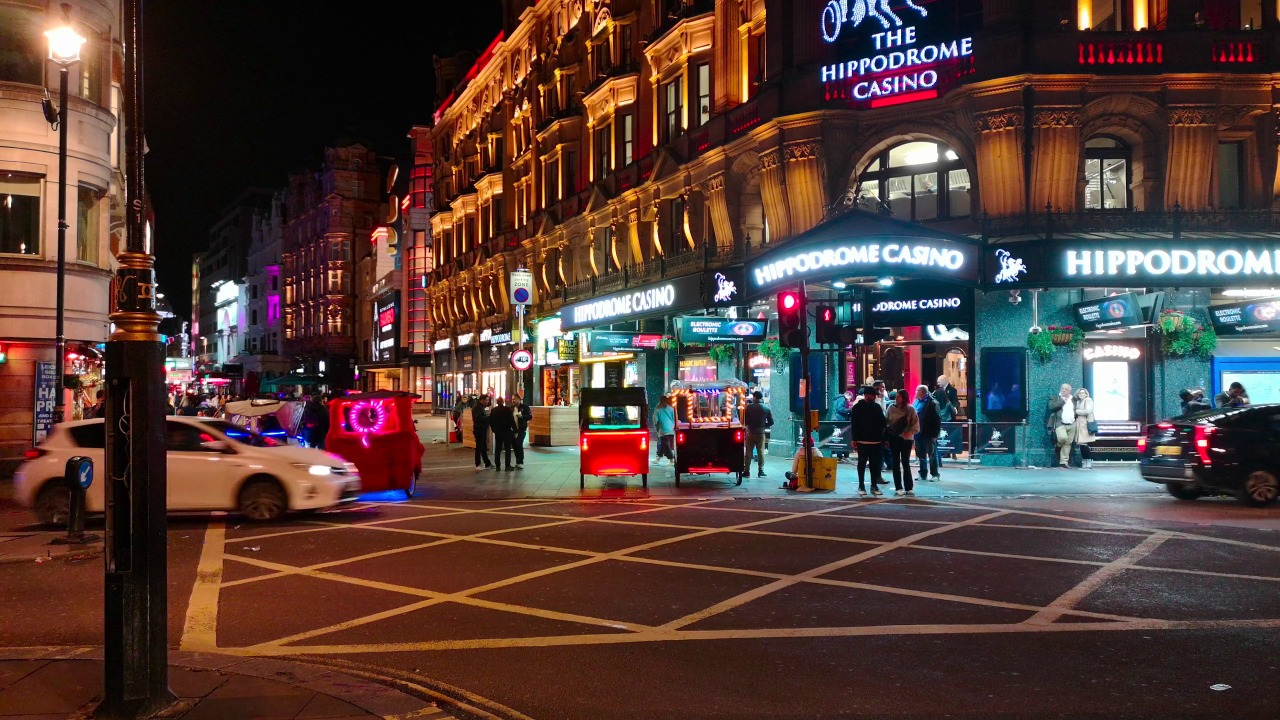car: (8, 416, 364, 536), (1137, 412, 1271, 501), (331, 397, 430, 503), (579, 392, 646, 503), (675, 396, 746, 487), (225, 404, 321, 453)
person: (912, 384, 947, 483), (889, 393, 922, 496), (860, 388, 889, 498), (741, 387, 772, 481), (1046, 375, 1073, 466), (784, 433, 826, 485), (491, 395, 517, 473), (506, 389, 530, 470), (836, 380, 858, 461), (653, 399, 676, 466), (1079, 379, 1097, 463), (474, 397, 493, 471), (1219, 381, 1257, 416), (1176, 381, 1213, 410), (932, 391, 951, 442), (79, 384, 111, 414), (936, 375, 963, 399), (862, 368, 885, 396), (874, 380, 890, 412), (452, 395, 469, 422)
